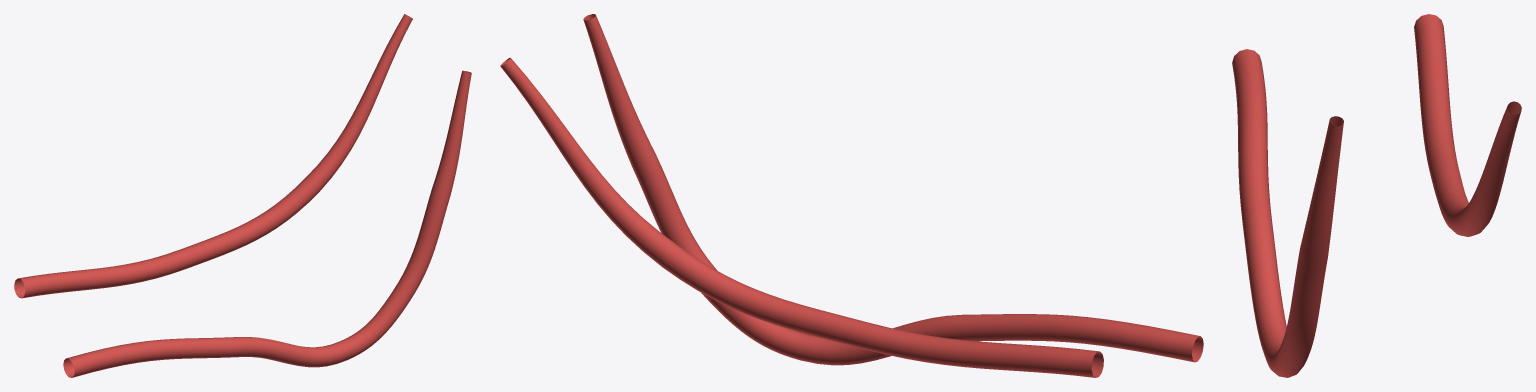
3 views of the same model, side by side, from view 1: azimuth 30°, elevation 25°; view 2: azimuth 150°, elevation 25°; view 3: azimuth 270°, elevation 25° (orthographic). The views are drawn at different scales.
Visible parts, largest first — view 1: 左侧基底动脉旁正中支; view 2: 左侧基底动脉旁正中支; view 3: 左侧基底动脉旁正中支.
Part boxes in pixels (x1=…): 左侧基底动脉旁正中支: x1=14, y1=14, x2=471, y2=377; 左侧基底动脉旁正中支: x1=500, y1=14, x2=1203, y2=377; 左侧基底动脉旁正中支: x1=1232, y1=14, x2=1521, y2=377.
Size of the model in its own units: 0.0145 by 0.00804 by 0.00575.
